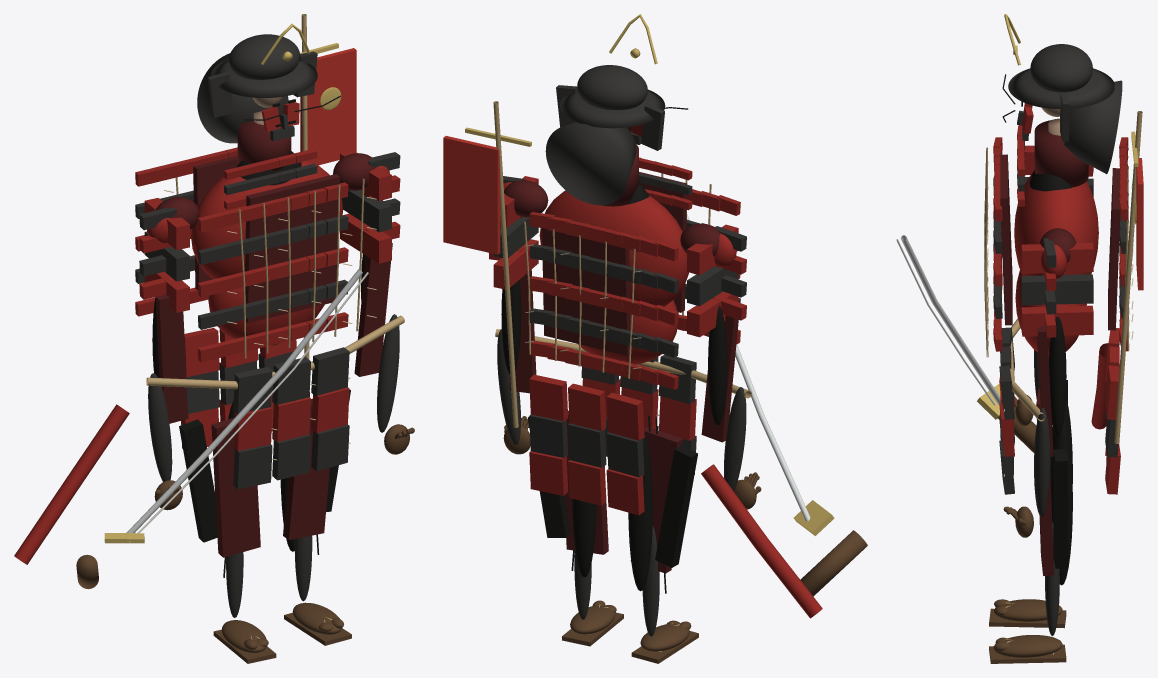
File: samurai_character.glb
The picture shows the model from 3 angles, left to right: view 1: azimuth 30°, elevation 25°; view 2: azimuth 150°, elevation 25°; view 3: azimuth 270°, elevation 25°; orthographic projection.
Parts seen in each view (by area): view 1: front under-kimono chest panel, cloth sashimono banner panel, left broad hanging hakama outer cloth, upper do cuirass fitted shell, lacquered saya scabbard at left hip, left long hanging sleeve cloth, right broad hanging hakama outer cloth, right long hanging sleeve cloth, left deep side hakama fold, compact segmented kabuto helmet bowl, drawn katana blade spine, layered rear shikoro neck guard (+38 smaller); view 2: cloth sashimono banner panel, layered rear shikoro neck guard, upper do cuirass fitted shell, rear under-kimono back panel, lacquered saya scabbard at left hip, left deep side hakama fold, compact segmented kabuto helmet bowl, left hidden hakama trouser leg volume, thin kabuto brim, left broad hanging hakama outer cloth, left hidden upper arm volume, bamboo sashimono back pole (+39 smaller); view 3: upper do cuirass fitted shell, layered rear shikoro neck guard, compact segmented kabuto helmet bowl, thin kabuto brim, neck guard collar, right side cuirass plate 2, bamboo sashimono back pole, right deep side hakama fold, right side cuirass plate 3, right hidden upper arm volume, front under-kimono chest panel, rear under-kimono back panel (+30 smaller).
Boxes of the visible parts, x1,y1,x2,y2 form: front under-kimono chest panel: (245,174,339,323); cloth sashimono banner panel: (300,48,356,165); left broad hanging hakama outer cloth: (211,418,260,557); upper do cuirass fitted shell: (191,160,342,279); lacquered saya scabbard at left hip: (14,404,129,564); left long hanging sleeve cloth: (155,294,188,423); right broad hanging hakama outer cloth: (283,399,329,539); right long hanging sleeve cloth: (354,243,392,376); left deep side hakama fold: (179,419,217,542); compact segmented kabuto helmet bowl: (229,34,300,79); drawn katana blade spine: (124,269,362,542); layered rear shikoro neck guard: (197,53,288,143); cloth sashimono banner panel: (443,136,500,254); layered rear shikoro neck guard: (545,122,636,205); upper do cuirass fitted shell: (539,190,688,306); rear under-kimono back panel: (542,228,630,355); lacquered saya scabbard at left hip: (701,464,822,618); left deep side hakama fold: (655,445,697,567); compact segmented kabuto helmet bowl: (577,65,647,110); left hidden hakama trouser leg volume: (628,431,652,591); thin kabuto brim: (560,89,665,128); left broad hanging hakama outer cloth: (630,427,682,573); left hidden upper arm volume: (708,305,727,425); bamboo sashimono back pole: (493,101,518,427); upper do cuirass fitted shell: (1014,172,1098,275); layered rear shikoro neck guard: (1064,80,1122,174); compact segmented kabuto helmet bowl: (1030,44,1092,92); thin kabuto brim: (1008,68,1114,109); neck guard collar: (1034,120,1088,187); right side cuirass plate 2: (1021,274,1093,305); bamboo sashimono back pole: (1114,111,1142,443); right deep side hakama fold: (1053,449,1067,568); right side cuirass plate 3: (1021,305,1093,336); right hidden upper arm volume: (1048,316,1066,437); front under-kimono chest panel: (1000,154,1012,325); rear under-kimono back panel: (1108,168,1120,330).
Size of what is drawn, in the model's own units: 1.63 by 2.68 by 0.963.
